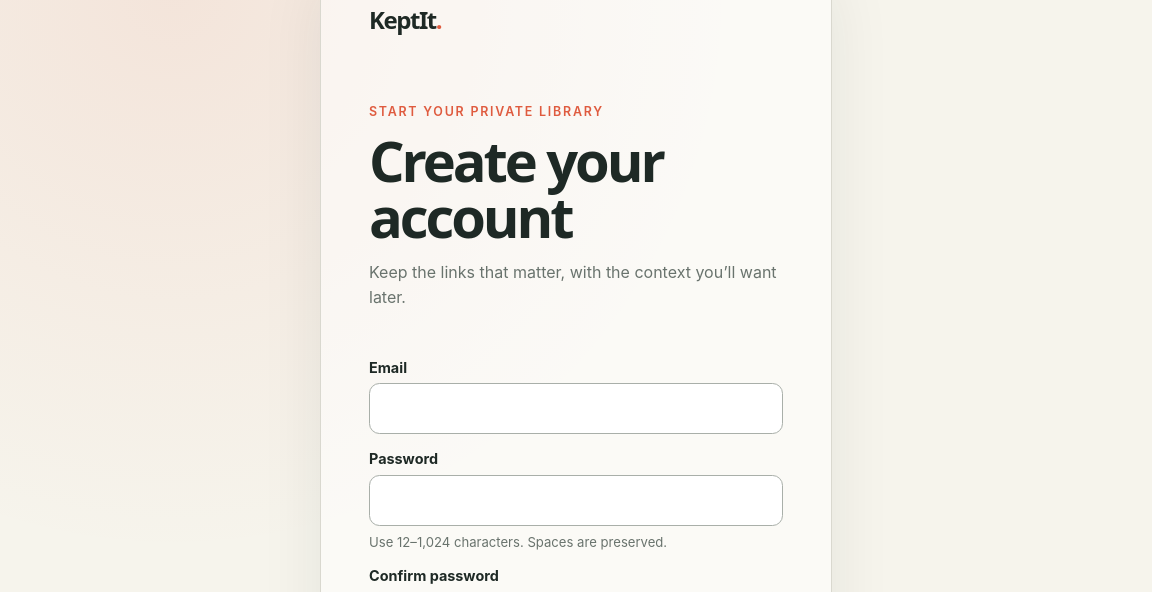
Test: frontend authentication › renders registration and validates email, password length, and mismatch
This screenshot has width=1152, height=592.
Expected: the heading "Create your account" is shown, [369,122,663,254]
Type "invalid" into the field labelled "Email".
click(576, 409); type("invalid")  # box [369,383,783,434]
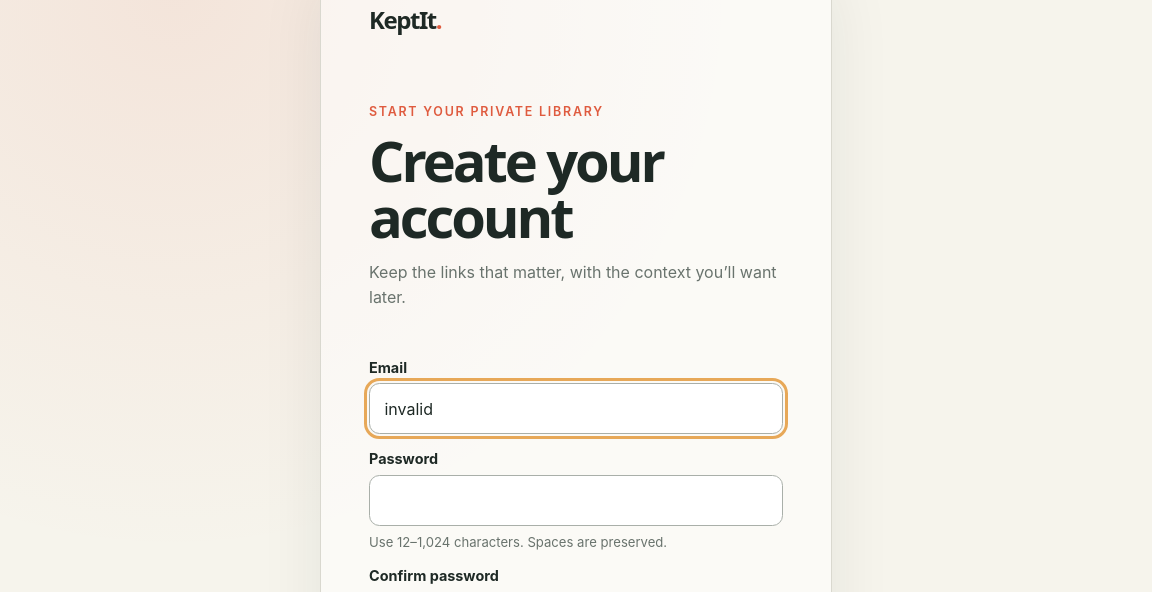
Type "short" into the password field labelled "Password".
click(576, 500); type("short")  # box [369,475,783,526]
(page scrolled)
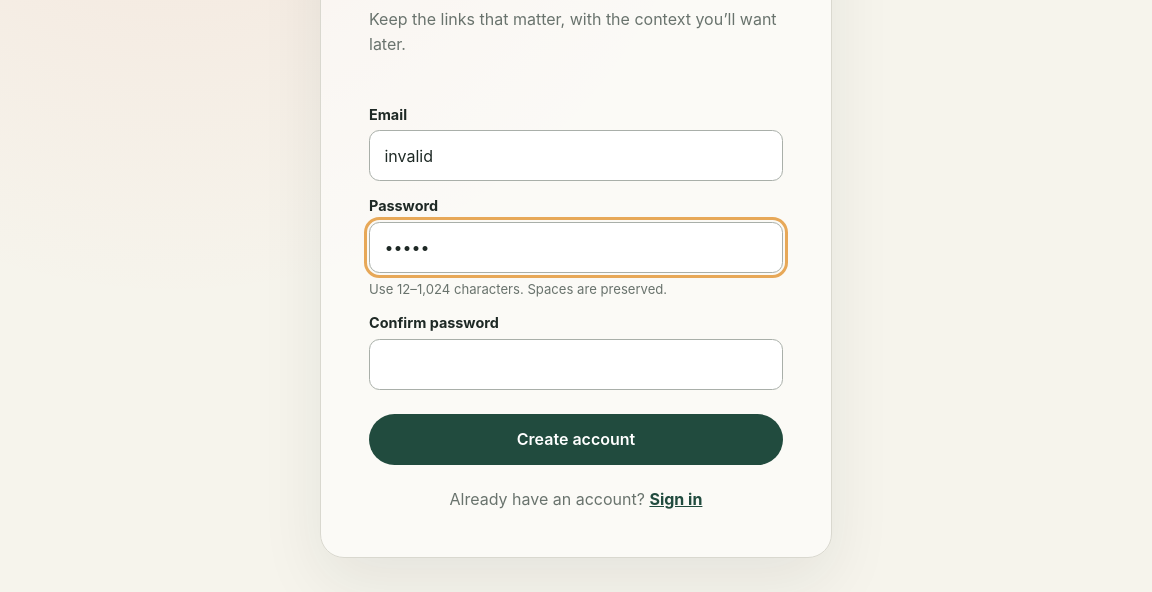
Type "different" into the password field labelled "Confirm password".
click(576, 364); type("different")  # box [369,338,783,390]
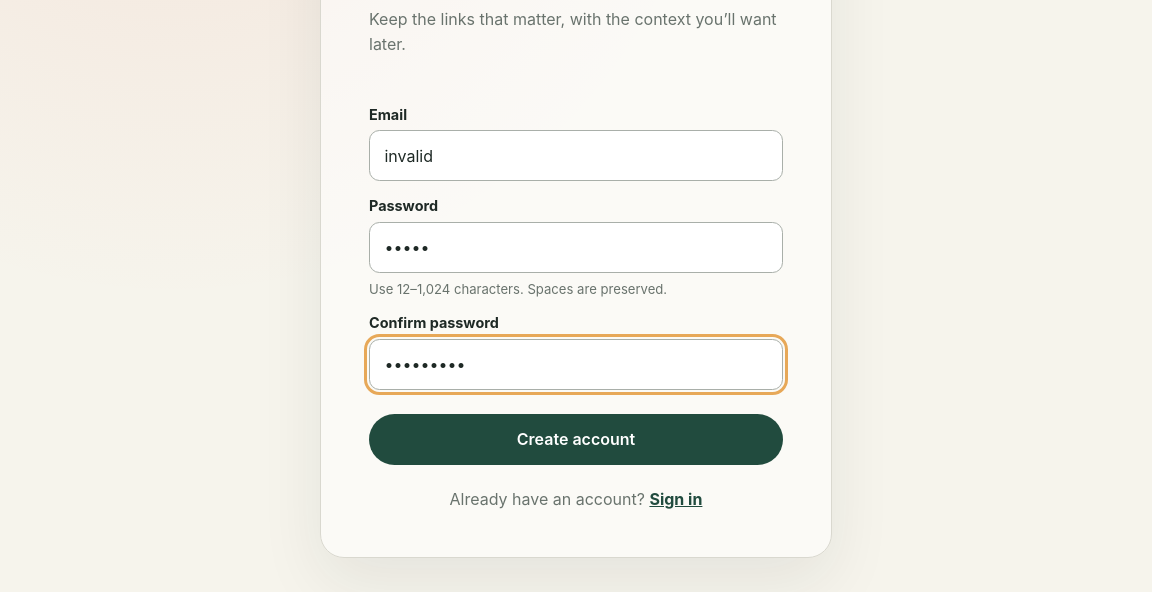
Click the button "Create account".
click(576, 439)  # box [369,414,783,465]
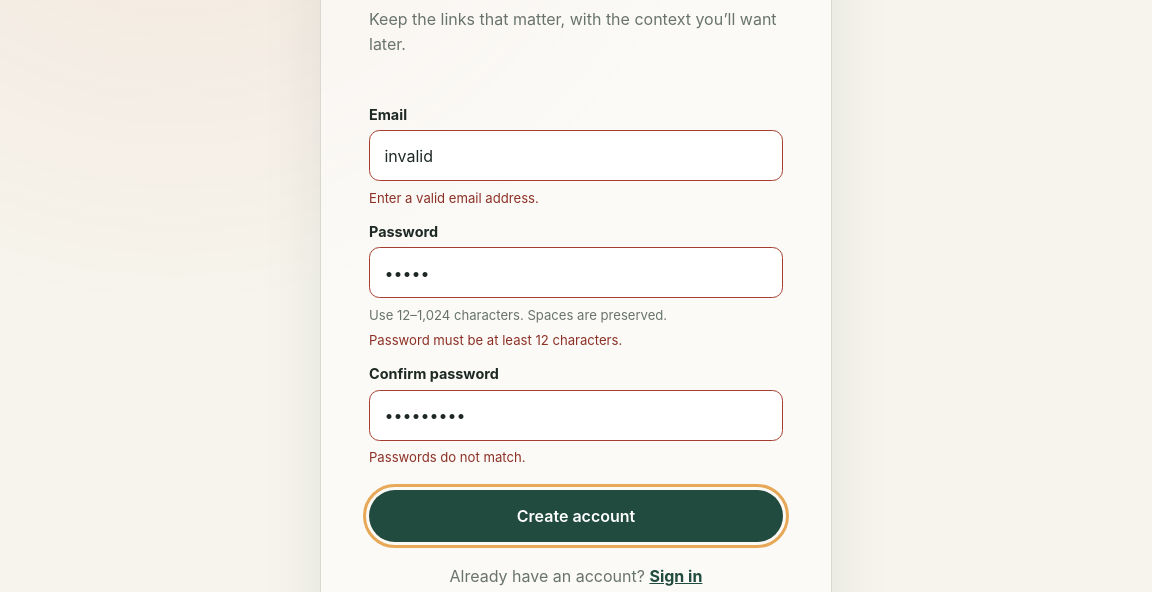
Expected: the text "Enter a valid email address." is shown, [369,190,539,206]
Expected: the text "Password must be at least 12 characters." is shown, [369,332,622,348]
Expected: the text "Passwords do not match." is shown, [369,449,526,465]
